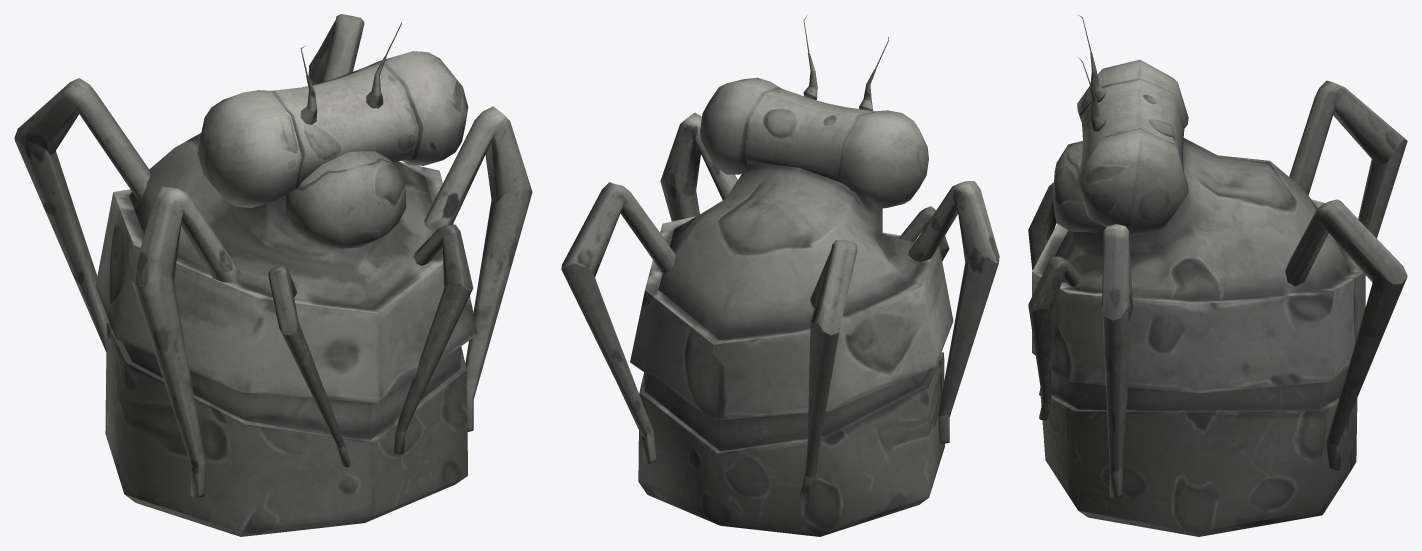
File: 4_Estatua.fbx
The picture shows the model from 3 angles, left to right: view 1: azimuth 30°, elevation 25°; view 2: azimuth 150°, elevation 25°; view 3: azimuth 270°, elevation 25°; orthographic projection. The views are drawn at different scales.
Visible parts, largest first — view 1: 4-Metal_Inferior; view 2: 4-Metal_Inferior; view 3: 4-Metal_Inferior.
Part boxes in pixels (<box>): 4-Metal_Inferior: <box>14,14,532,536</box>; 4-Metal_Inferior: <box>561,15,999,536</box>; 4-Metal_Inferior: <box>1028,15,1407,536</box>.
Bounding box in the file's own units: 138 × 160 × 126.
